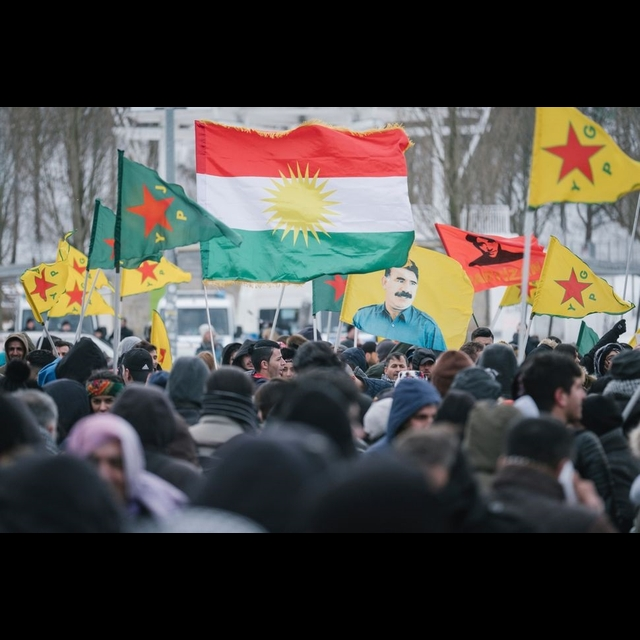APO: (378, 256, 426, 314)
IBKY: (215, 142, 401, 263)
YPG: (538, 114, 614, 195), (551, 263, 598, 312), (28, 263, 59, 305), (135, 259, 166, 286)
YPJ: (121, 171, 190, 246)
